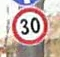limite 30: (9, 6, 48, 45)
